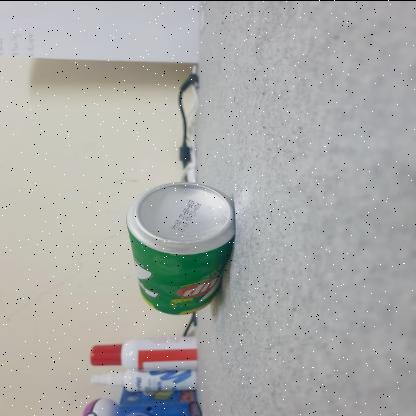Can: (126, 176, 238, 312)
